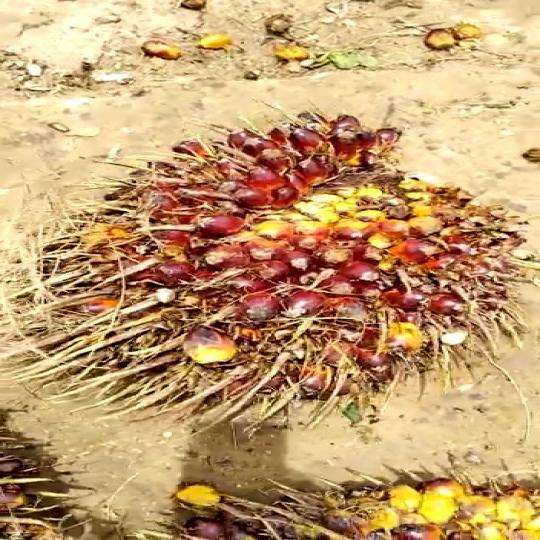masak: (35, 102, 540, 424)
